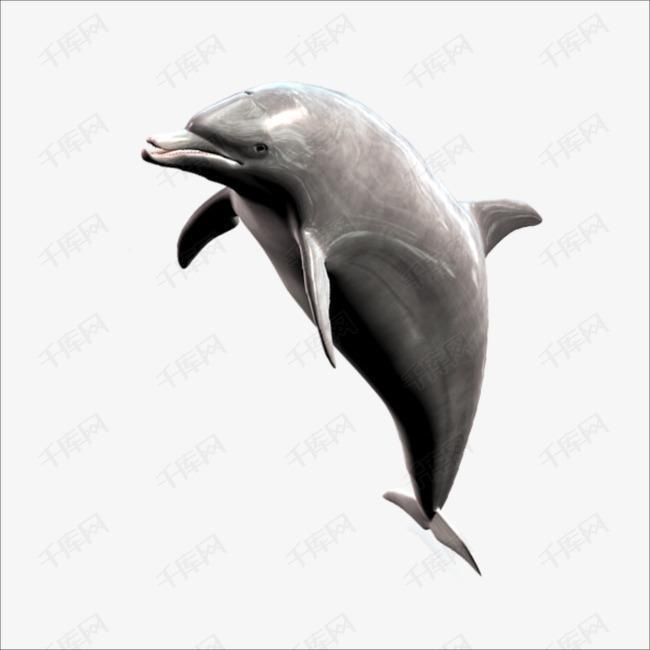fish: (142, 84, 544, 576)
